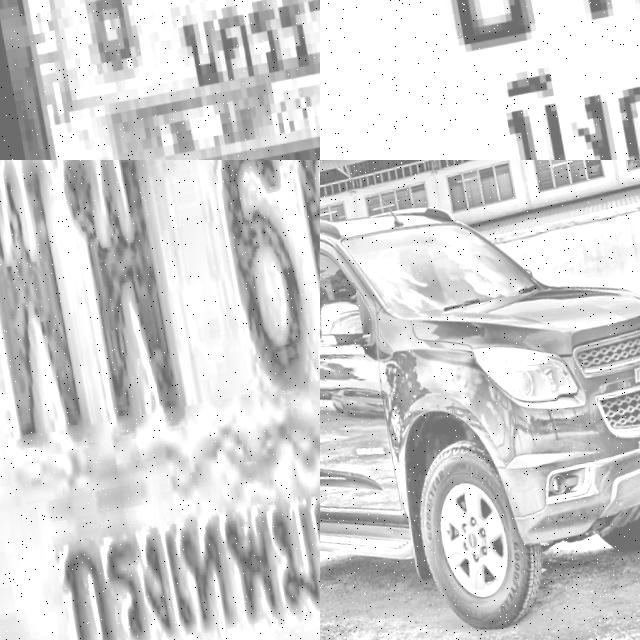license-plate: (0, 160, 320, 640), (0, 0, 320, 160), (320, 0, 640, 160)
